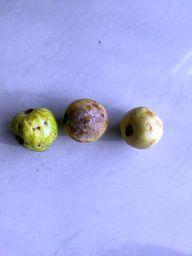guava: (8, 104, 60, 154), (62, 95, 111, 146), (119, 104, 166, 152)
